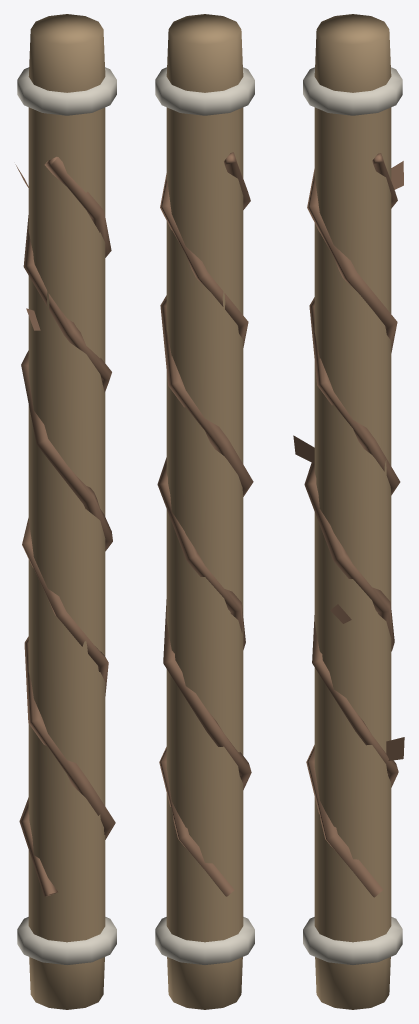
File: exterior_unique.glb
3 views of the same model, side by side, from view 1: azimuth 90°, elevation 25°; view 2: azimuth 150°, elevation 25°; view 3: azimuth 330°, elevation 25° (orthographic).
Parts seen in each view (by area): view 1: exterior_unique; view 2: exterior_unique; view 3: exterior_unique.
Boxes of the visible parts, x1,y1,x2,y2 form: exterior_unique: [15, 14, 116, 1009]; exterior_unique: [155, 14, 254, 1009]; exterior_unique: [293, 14, 404, 1009].
Bounding box in the file's own units: 0.105 × 1 × 0.1034.
